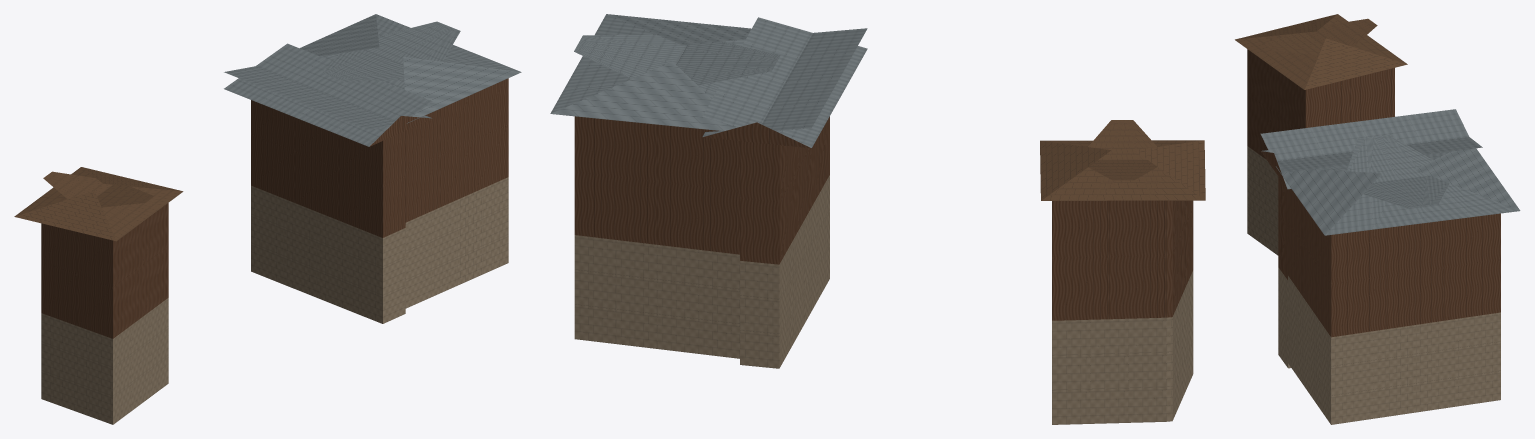
Rendered from bld_c14_15_482.gltf.
The picture shows the model from 3 angles, left to right: view 1: azimuth 30°, elevation 25°; view 2: azimuth 150°, elevation 25°; view 3: azimuth 270°, elevation 25°; orthographic projection. The views are drawn at different scales.
Visible parts, largest first — view 1: bld_c14_15_482; view 2: bld_c14_15_482; view 3: bld_c14_15_482.
Boxes of the visible parts, bbox=[...] form: bld_c14_15_482: bbox=[14, 14, 521, 424]; bld_c14_15_482: bbox=[550, 14, 1205, 424]; bld_c14_15_482: bbox=[1235, 14, 1520, 424].
Bounding box in the file's own units: 31.11 × 13.8 × 15.1.
5 materials, 5 textured.
